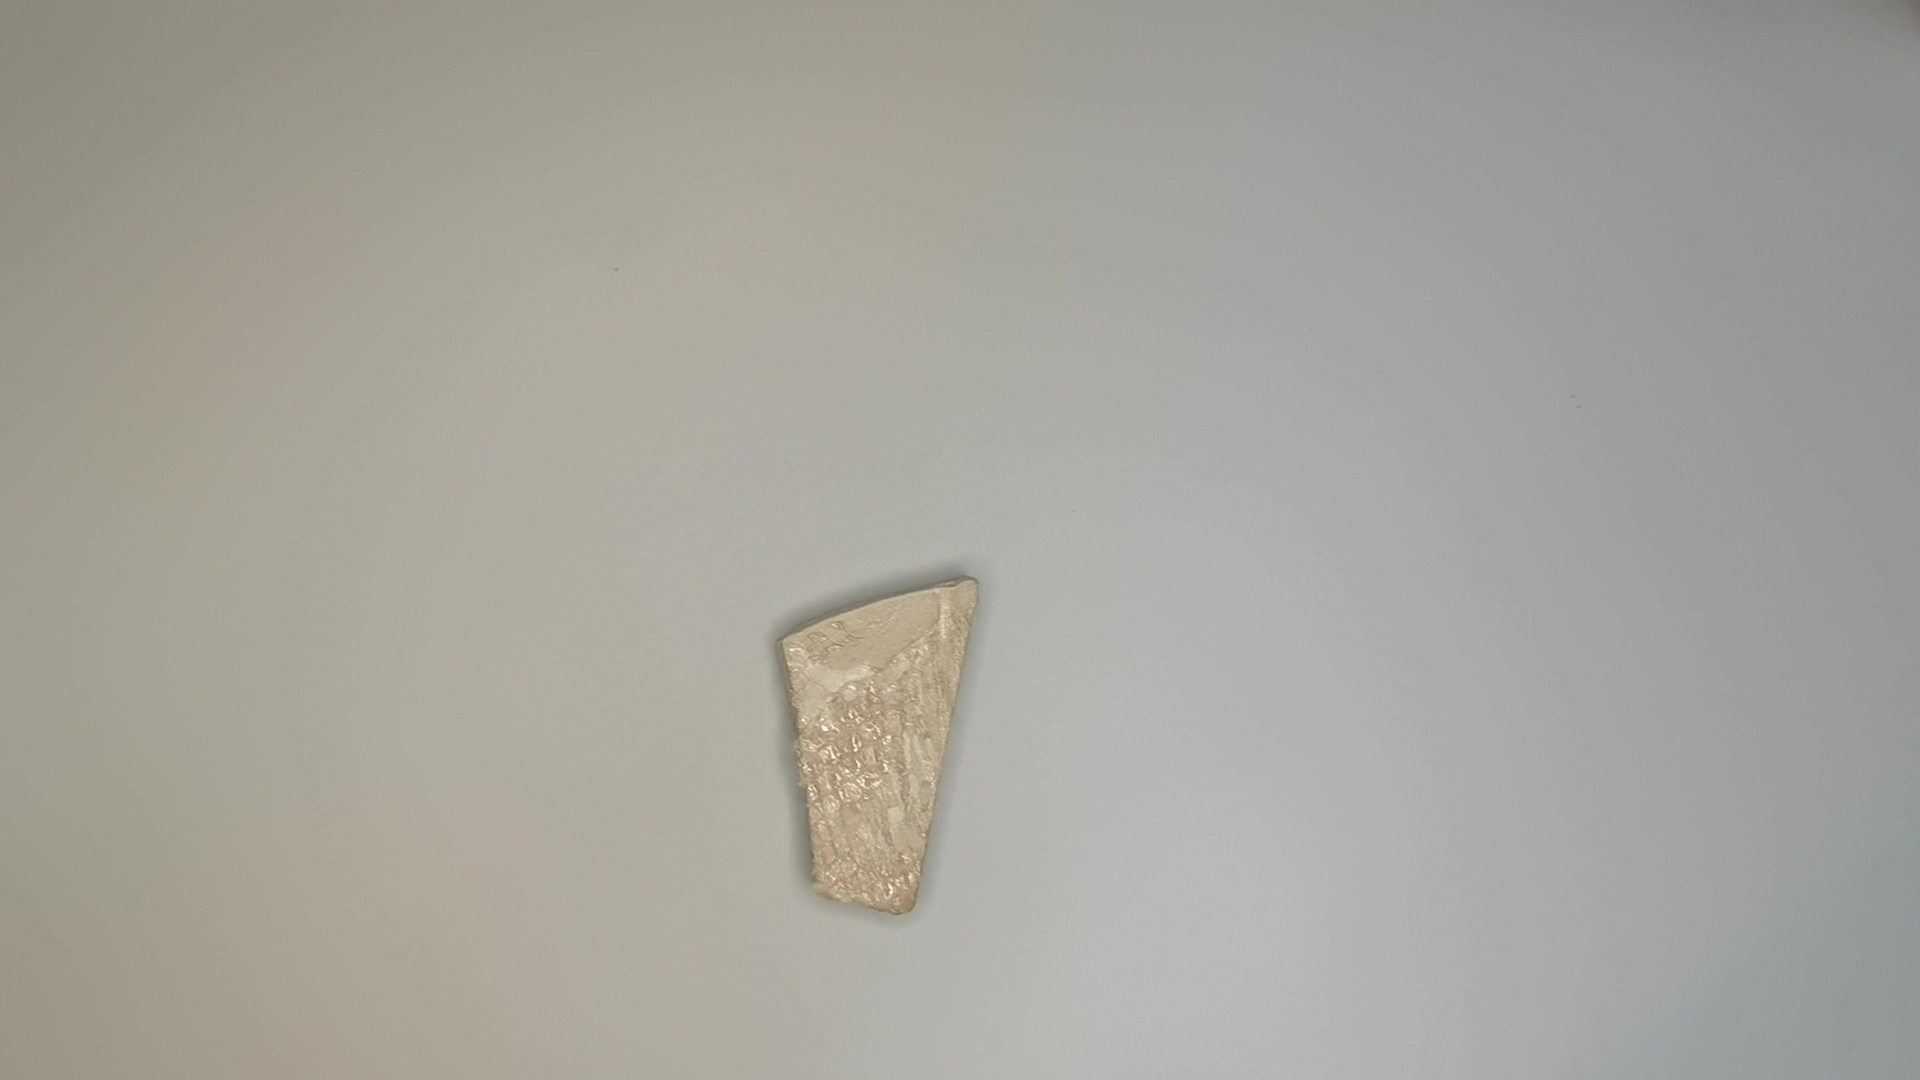ceramic: (767, 575, 981, 924)
